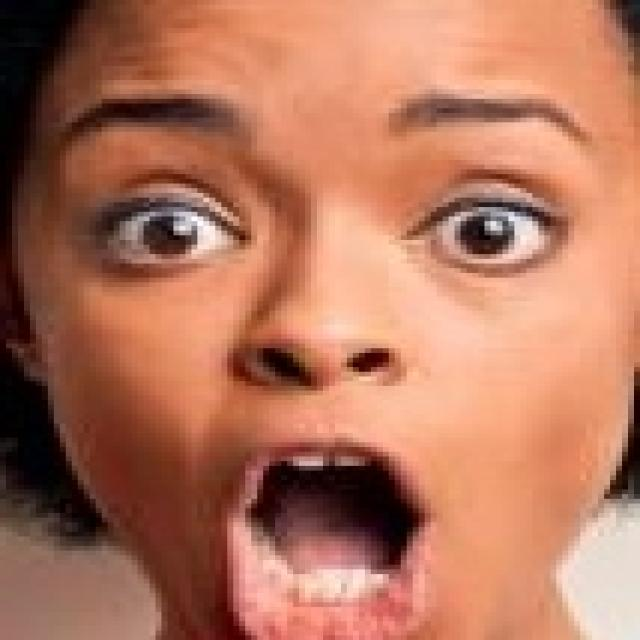Anxiety: (19, 0, 634, 635)
